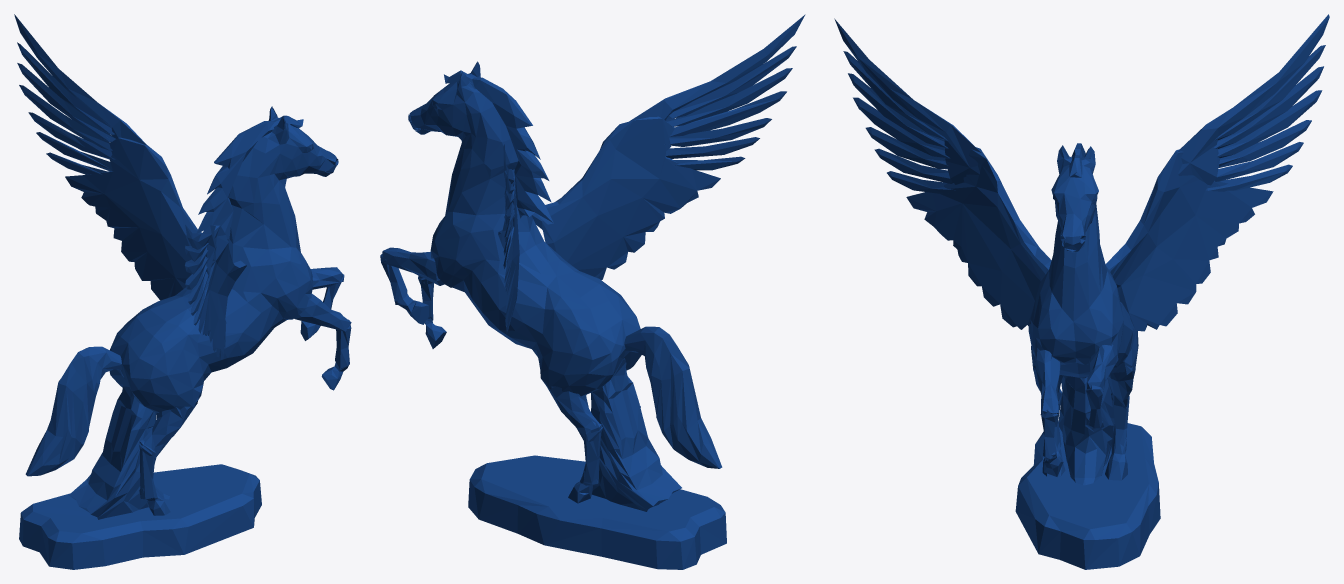
Rendered from cleanhorse-lowres.obj.
The picture shows the model from 3 angles, left to right: view 1: azimuth 30°, elevation 25°; view 2: azimuth 150°, elevation 25°; view 3: azimuth 270°, elevation 25°; orthographic projection. The views are drawn at different scales.
Visible parts, largest first — view 1: HORSE; view 2: HORSE; view 3: HORSE.
Part boxes in pixels (left/top/right/bottom): HORSE: left=14, top=14, right=351, bottom=569; HORSE: left=380, top=14, right=805, bottom=569; HORSE: left=834, top=14, right=1329, bottom=569.
Size of the model in its own units: 2.42 by 3.23 by 3.
